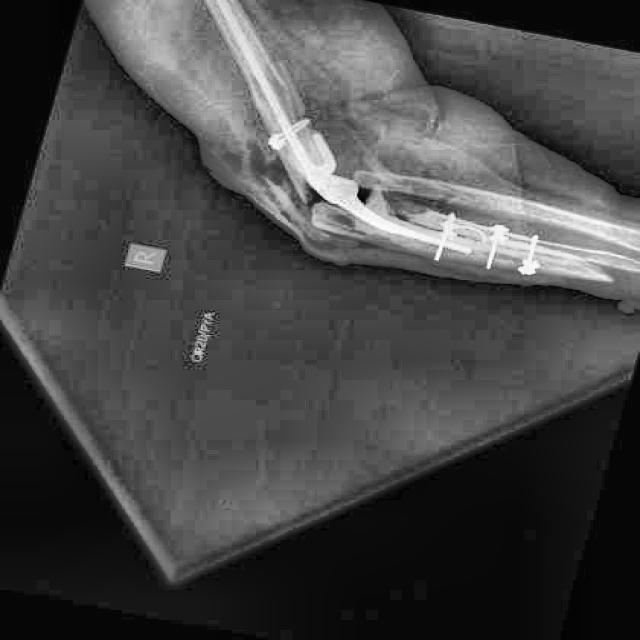elbow positive: (274, 172, 367, 248)
